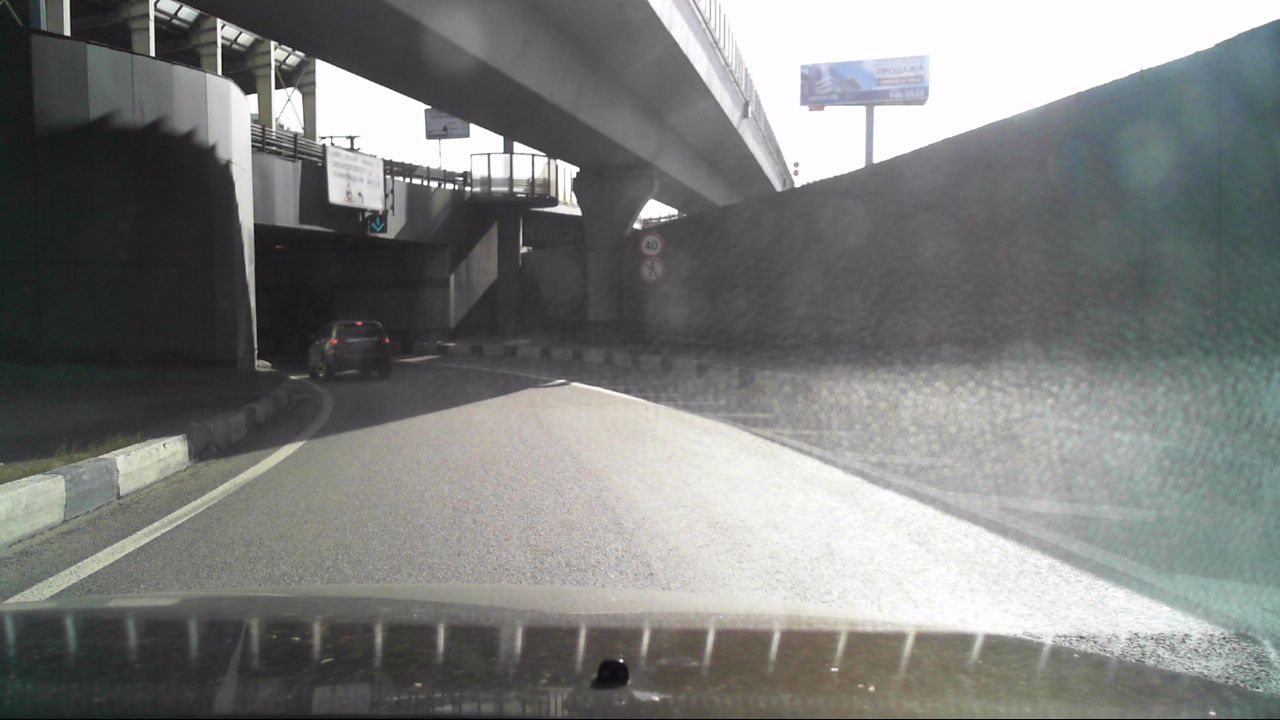speed_warning_40: (637, 228, 662, 255)
